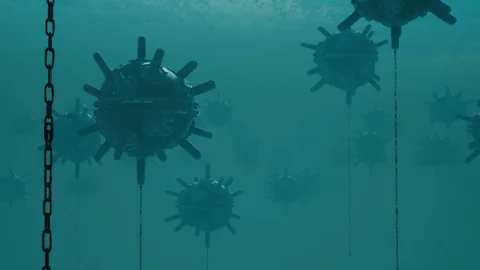Mines: (82, 35, 217, 189), (296, 21, 389, 103), (164, 162, 241, 247), (336, 0, 460, 48), (45, 99, 99, 177), (428, 88, 472, 132), (264, 169, 308, 209), (354, 127, 391, 173), (460, 100, 480, 166), (0, 167, 31, 207)
